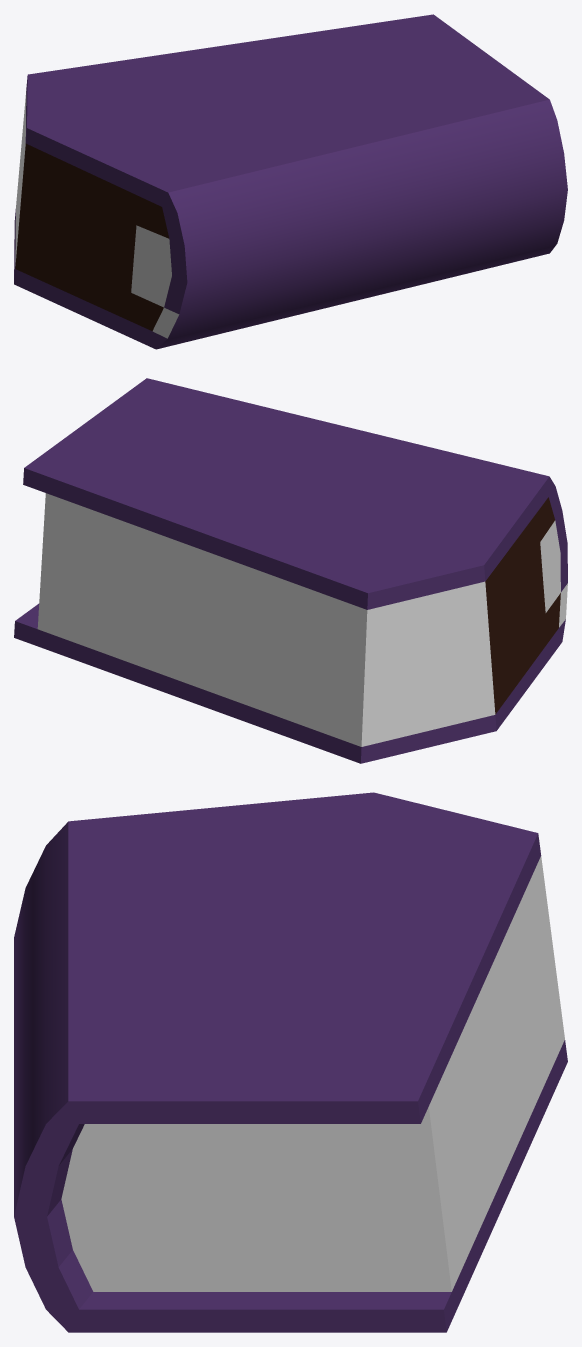
File: Livre_Part_2.fbx
3 renders of one model, top to bottom at view 1: azimuth 30°, elevation 25°; view 2: azimuth 150°, elevation 25°; view 3: azimuth 270°, elevation 25°, orthographic. The views are drawn at different scales.
Visible parts, largest first — view 1: Livre_Part_2; view 2: Livre_Part_2; view 3: Livre_Part_2.
Part boxes in pixels (box(x1,y1,x2,y2)): Livre_Part_2: box(14, 14, 567, 349); Livre_Part_2: box(14, 378, 567, 763); Livre_Part_2: box(14, 792, 567, 1332).
Bounding box in the file's own units: 18.44 × 6.26 × 13.58.
